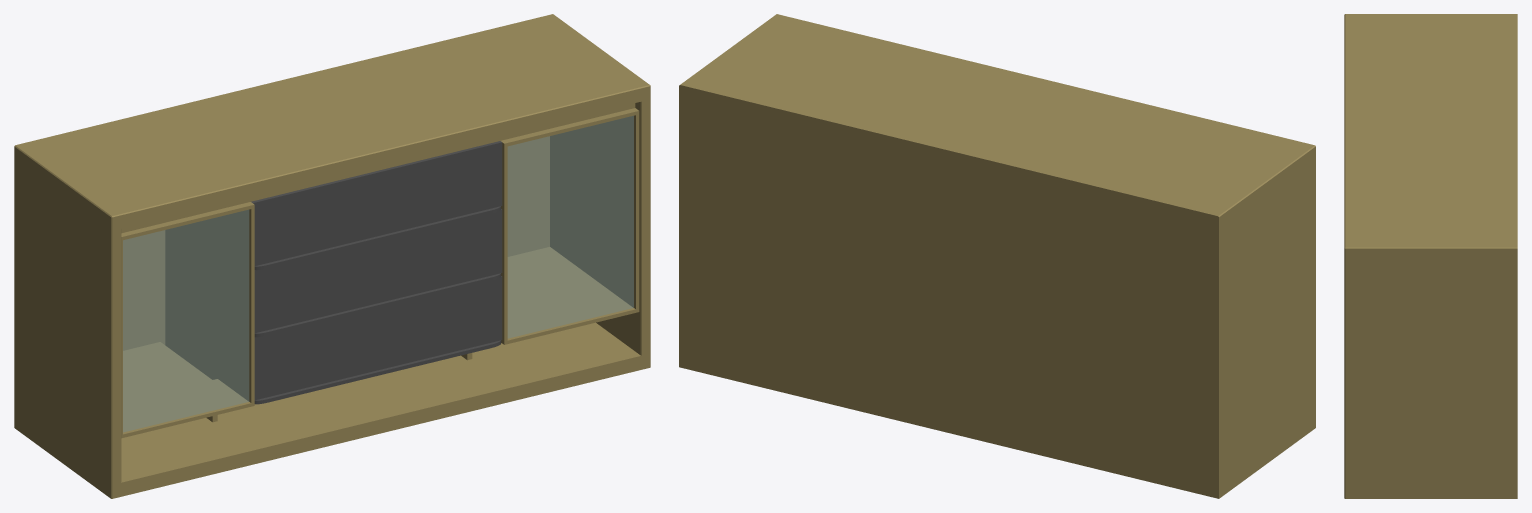
The model's file is MZDCB06.FBX.
3 renders of one model, left to right at view 1: azimuth 30°, elevation 25°; view 2: azimuth 150°, elevation 25°; view 3: azimuth 270°, elevation 25°, orthographic. The views are drawn at different scales.
Visible parts, largest first — view 1: MZDCB06; view 2: MZDCB06; view 3: MZDCB06.
Boxes of the visible parts, x1,y1,x2,y2 form: MZDCB06: [14, 14, 650, 498]; MZDCB06: [679, 14, 1315, 498]; MZDCB06: [1344, 14, 1517, 498].
Size of the model in its own units: 13.33 by 6.67 by 4.17.
